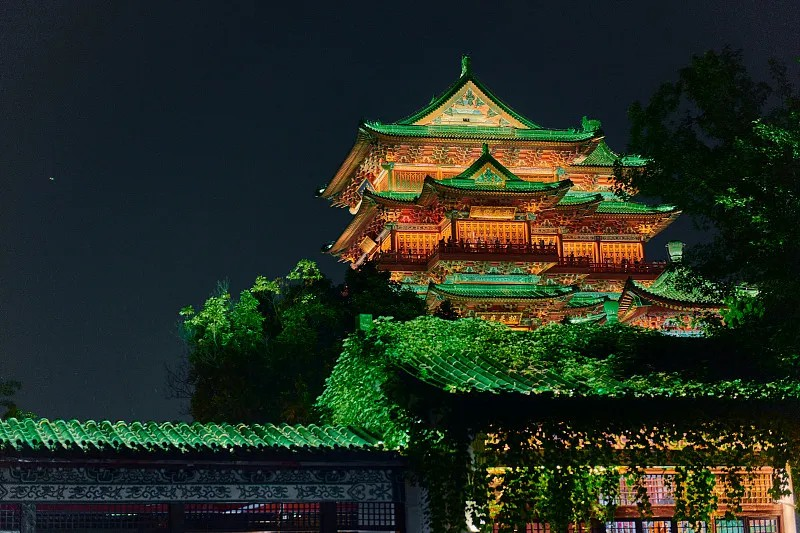Teng: (315, 57, 685, 333)
